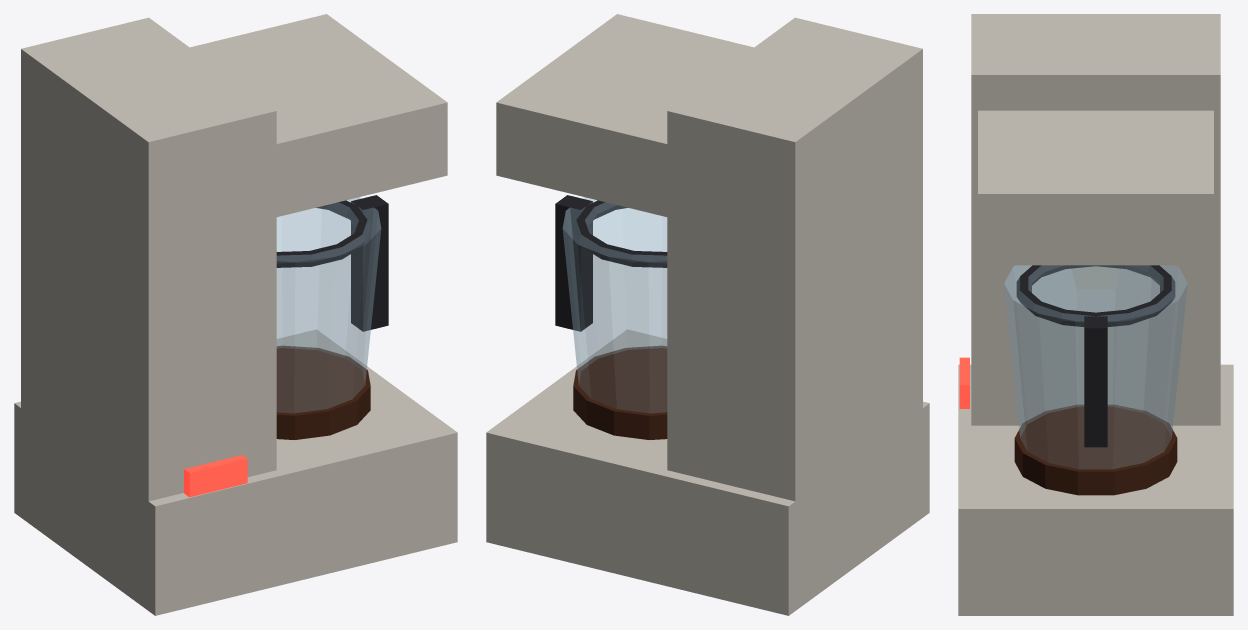
File: coffee_maker.glb
3 renders of one model, left to right at view 1: azimuth 30°, elevation 25°; view 2: azimuth 150°, elevation 25°; view 3: azimuth 270°, elevation 25°, orthographic. The views are drawn at different scales.
Visible parts, largest first — view 1: coffee_maker; view 2: coffee_maker; view 3: coffee_maker.
Boxes of the visible parts, x1,y1,x2,y2 form: coffee_maker: (14,14,457,615); coffee_maker: (486,14,929,615); coffee_maker: (958,14,1233,615).
Size of the model in its own units: 0.26 by 0.385 by 0.21.
